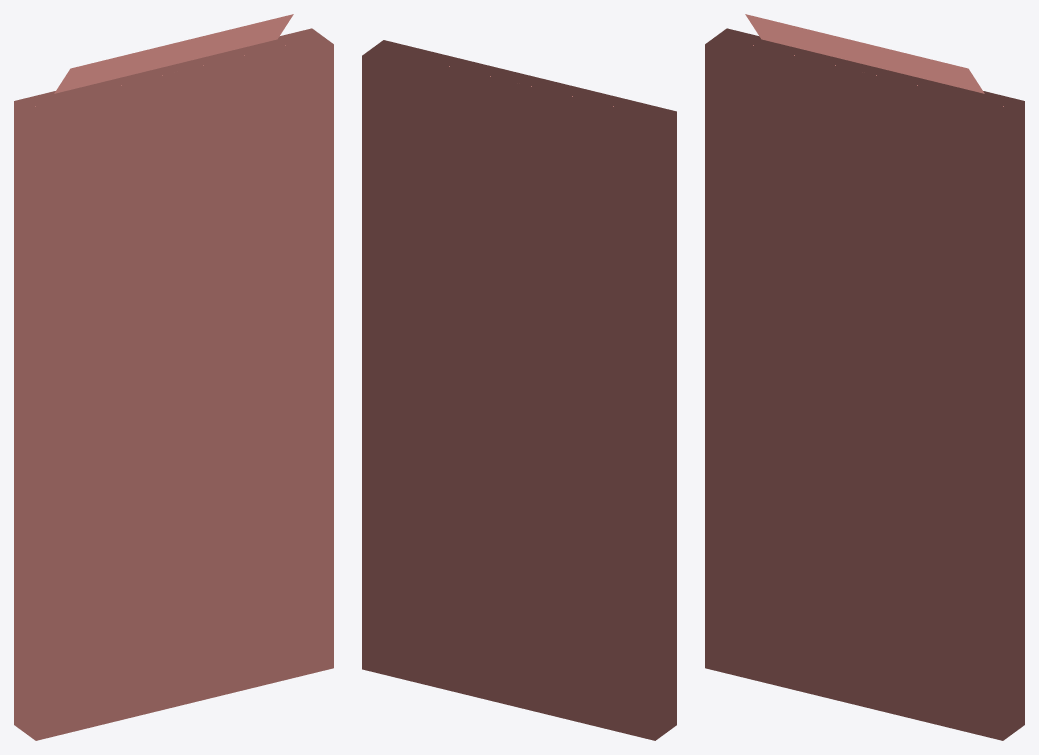
The model's file is trap_t13_alarmed_door.glb.
The picture shows the model from 3 angles, left to right: view 1: azimuth 30°, elevation 25°; view 2: azimuth 150°, elevation 25°; view 3: azimuth 330°, elevation 25°; orthographic projection.
Visible parts, largest first — view 1: trap_t13_alarmed_door; view 2: trap_t13_alarmed_door; view 3: trap_t13_alarmed_door.
Part boxes in pixels (bbox=[...]): trap_t13_alarmed_door: bbox=[14, 14, 333, 740]; trap_t13_alarmed_door: bbox=[362, 40, 676, 740]; trap_t13_alarmed_door: bbox=[705, 14, 1024, 740].
Bounding box in the file's own units: 1.1 × 2.33 × 0.14.
